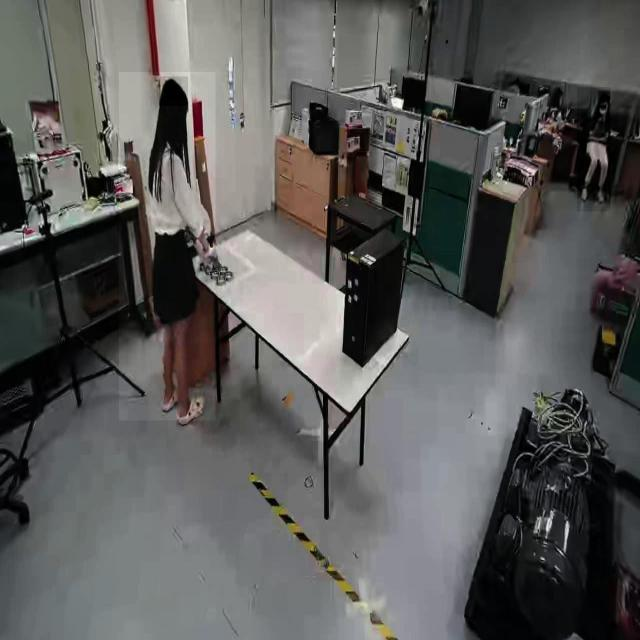head_nohelmet: (159, 76, 189, 106), (598, 91, 610, 101)
person: (119, 72, 216, 421), (577, 87, 611, 213)
